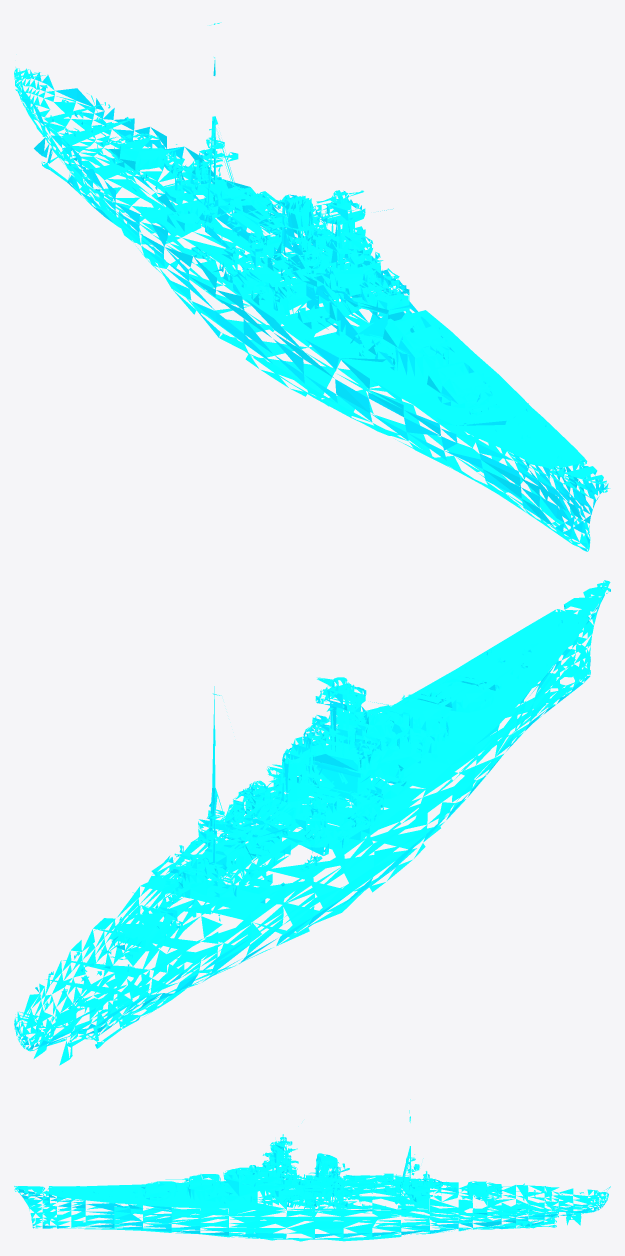
Rendered from Black_Scharnhorst.glb.
3 views of the same model, one above another, from view 1: azimuth 30°, elevation 25°; view 2: azimuth 150°, elevation 25°; view 3: azimuth 270°, elevation 25° (orthographic). The views are drawn at different scales.
Bounding box in the file's own units: 2.06 × 3.88 × 15.71.
